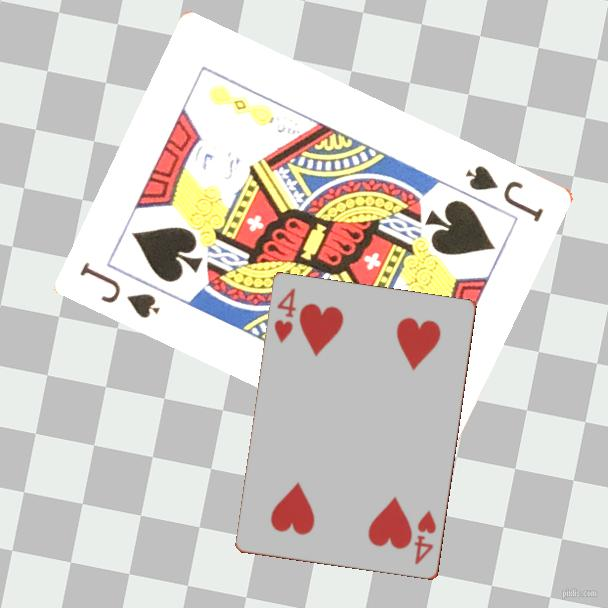h04: (271, 285, 299, 347), (411, 507, 439, 568)
s11: (76, 258, 164, 321), (462, 161, 547, 225)
